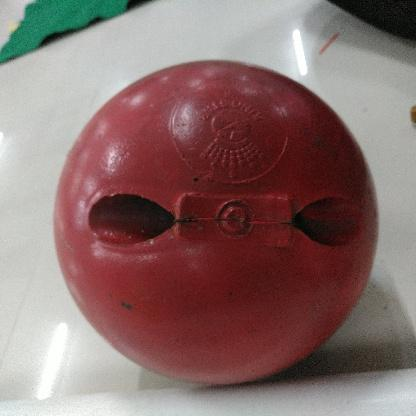red_buoy: (52, 55, 382, 386)
